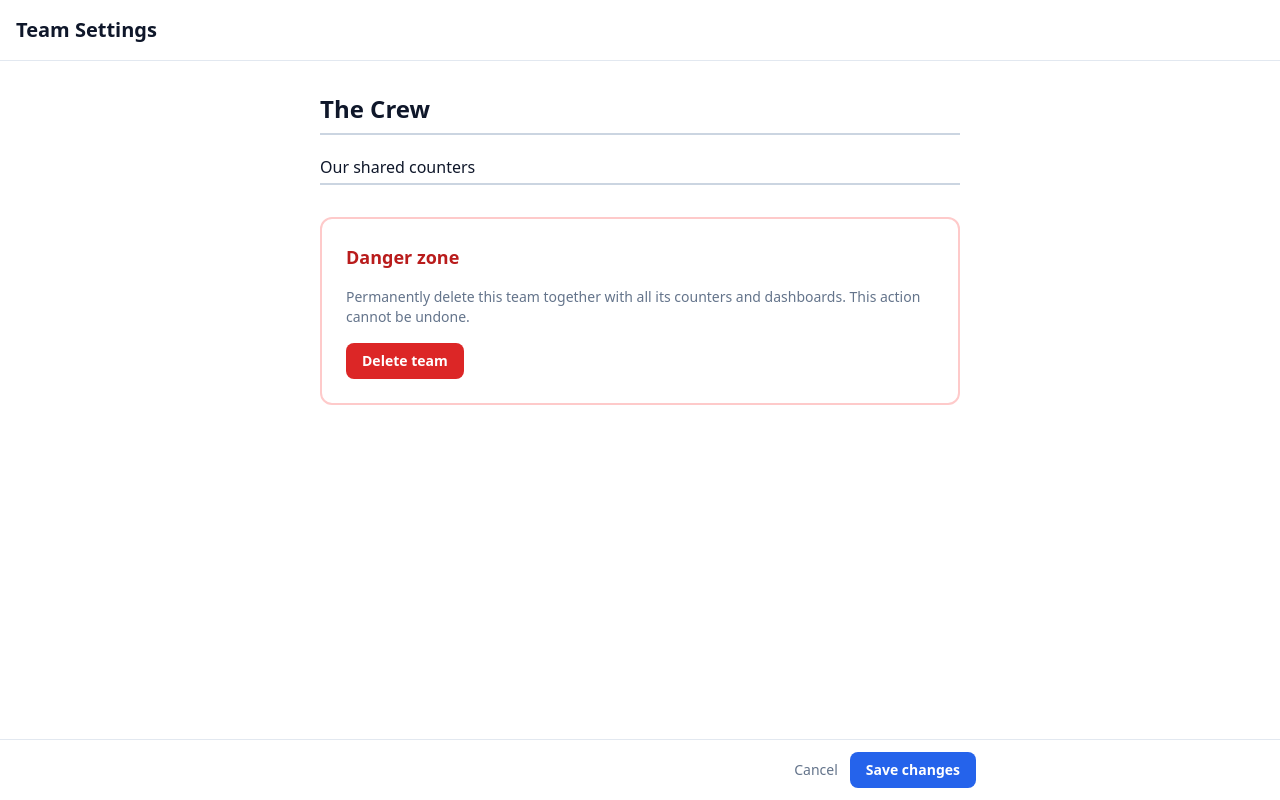
TeamSettingsOverlay › shows the server error and stays open when saving fails
Click the button "Save changes": point(913, 770) x1=850 y1=752 x2=976 y2=788
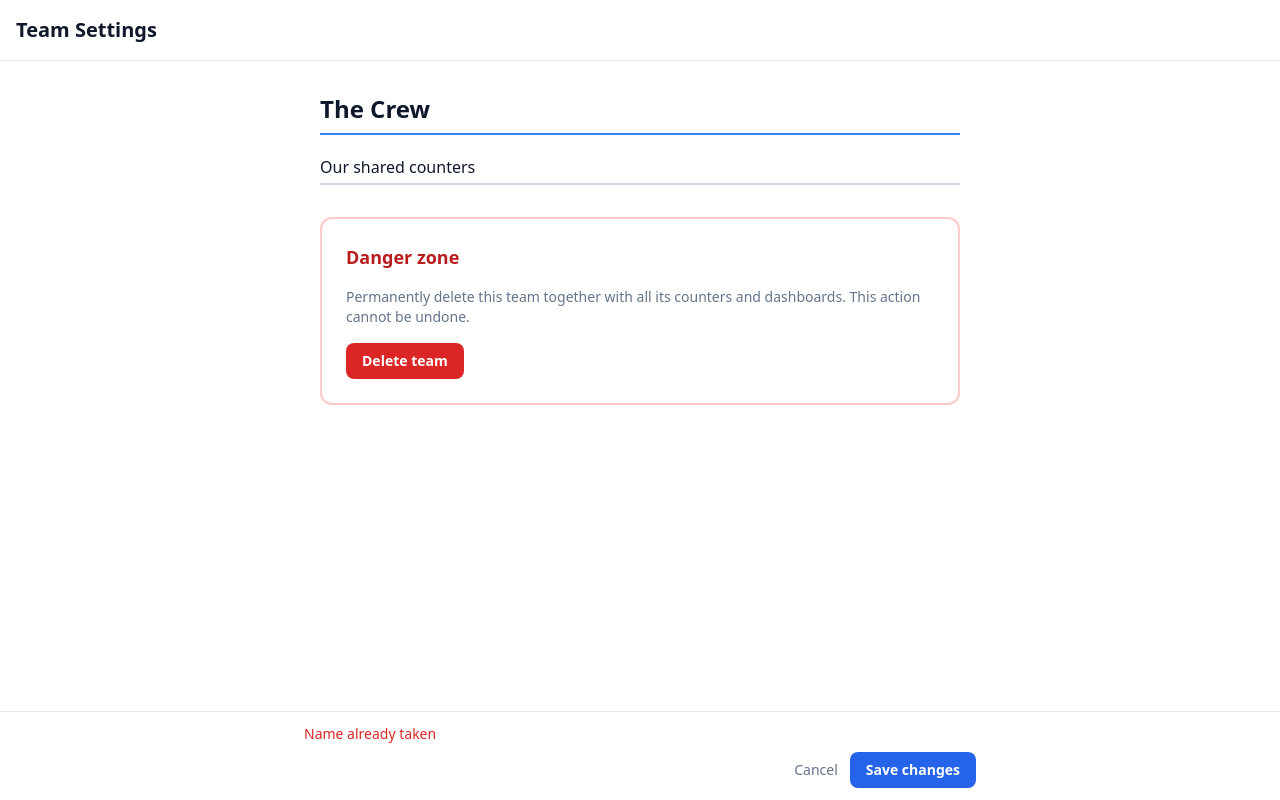
Check: the text "Name already taken" is shown, box x1=304 y1=724 x2=436 y2=743
